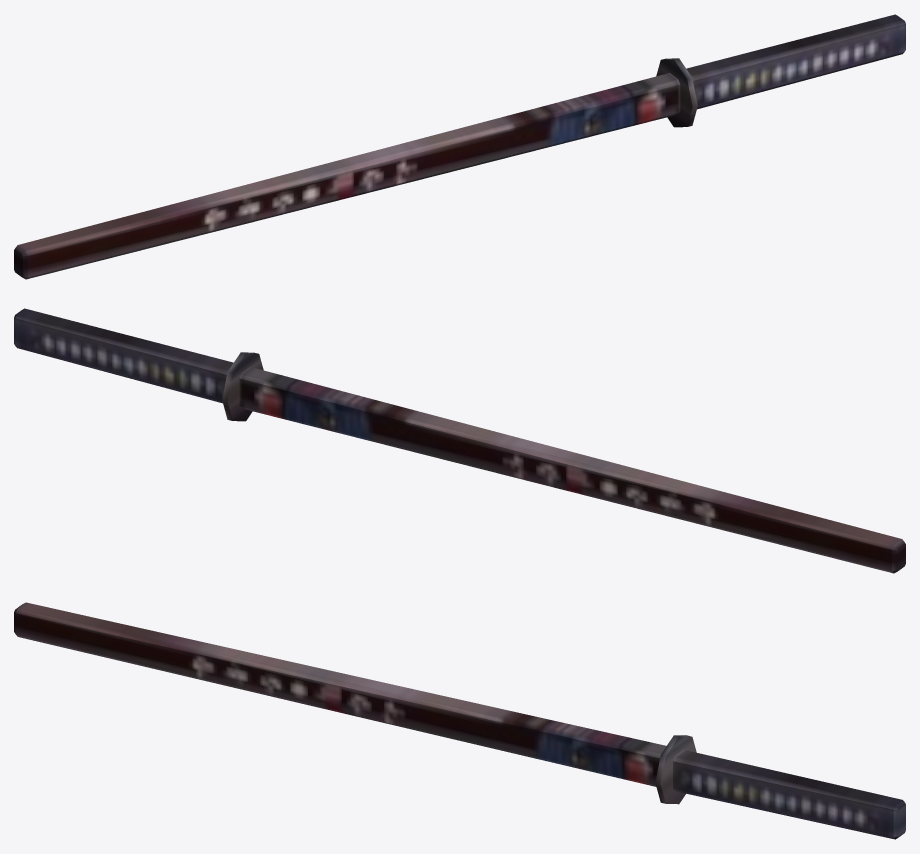
Rendered from katana_2.FBX.
The picture shows the model from 3 angles, top to bottom: view 1: azimuth 30°, elevation 25°; view 2: azimuth 150°, elevation 25°; view 3: azimuth 330°, elevation 25°; orthographic projection.
Parts seen in each view (by area): view 1: katana_2; view 2: katana_2; view 3: katana_2.
Boxes of the visible parts, <box> form: katana_2: <box>14,14,905,279</box>; katana_2: <box>14,308,905,573</box>; katana_2: <box>14,602,905,839</box>.
Size of the model in its own units: 110 by 8.08 by 8.08.
